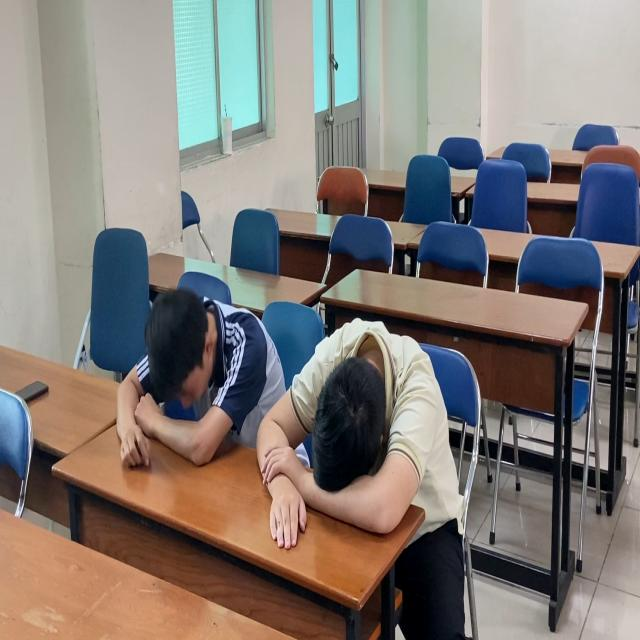sleep: (253, 314, 451, 552), (115, 285, 288, 465)
